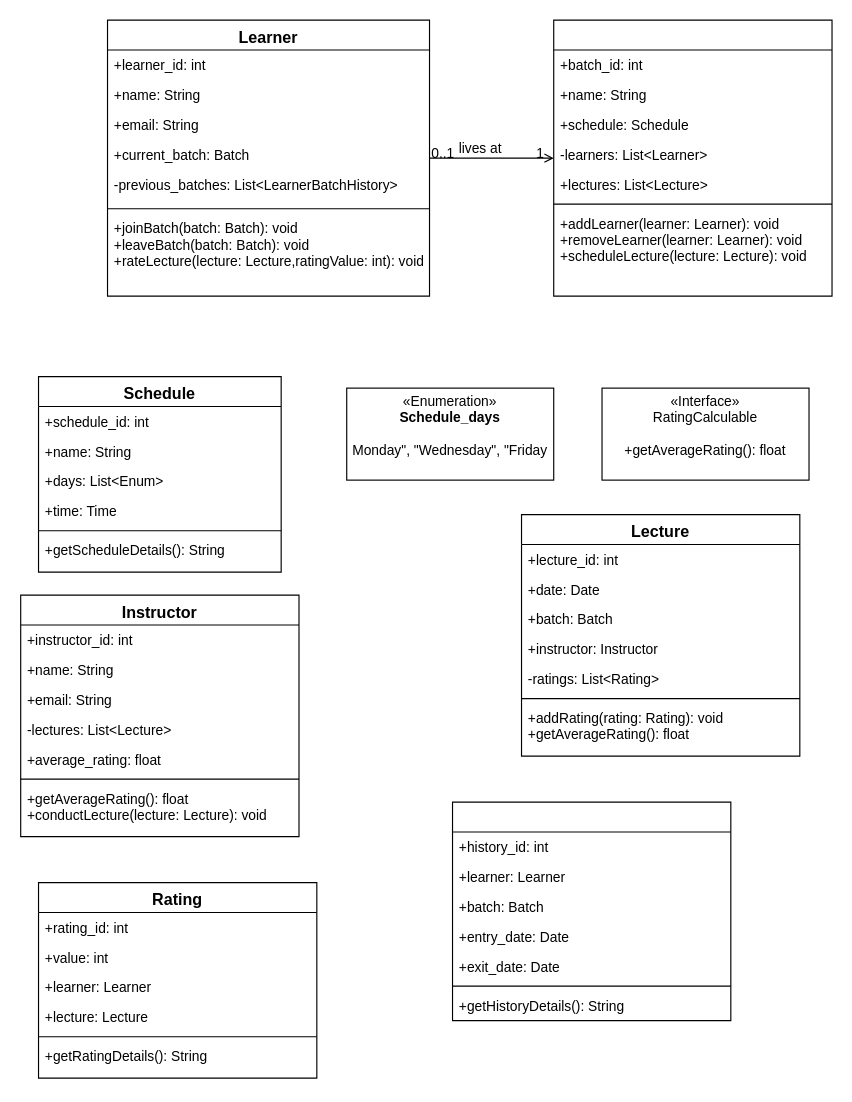
Some shapes in this 852 by 1102 pixel diagram are drawn without their labels. Here are the shapes that lost their labels. From the top down, the box of each, then its label:
(553, 19, 832, 296): Address
(451, 801, 731, 1021): LearnerBatchHistory
